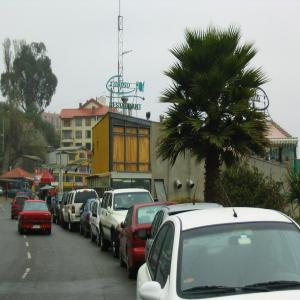Vehicle-registration-plate: (34, 226, 42, 229)
